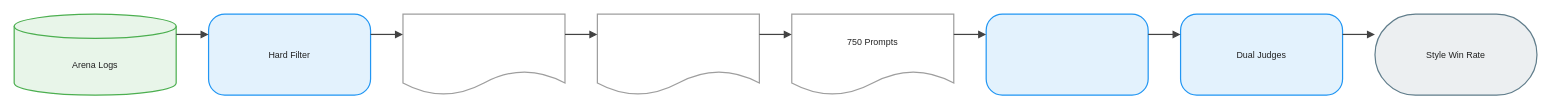
This 1552x110 diagram has some shape labels left out. Here are the shapes that lost their labels. From the top down, the centre of each, then its label:
At (483,54): "500 Hard".
At (678,54): "250 Creative".
At (1066,54): "Model vs Base".
